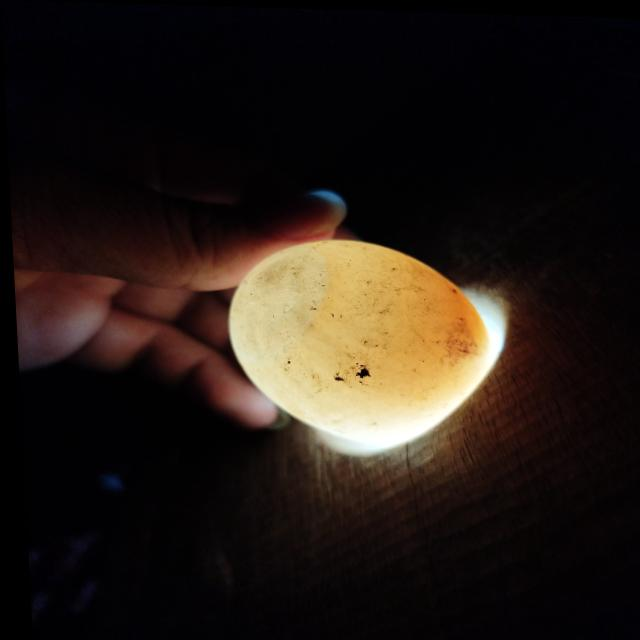Camara de Ar: (225, 242, 323, 375)
